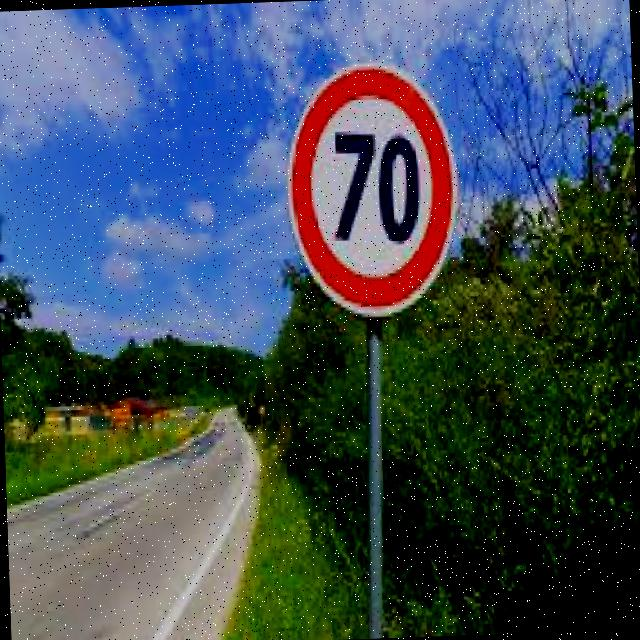Ograniczenie predkosci do 70: (277, 48, 468, 330)
